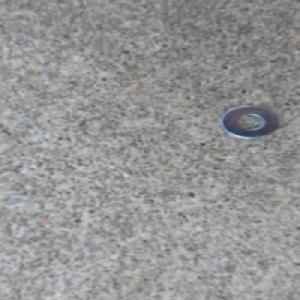Washer: (216, 103, 281, 141)
